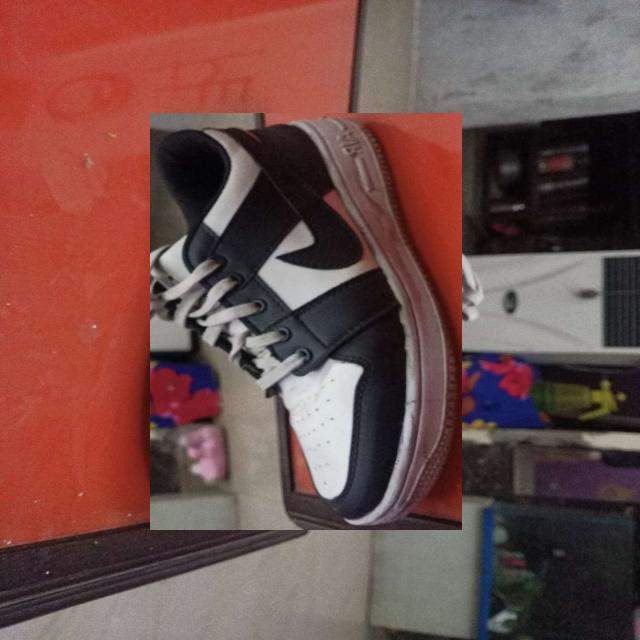shoes: (150, 113, 462, 530)
